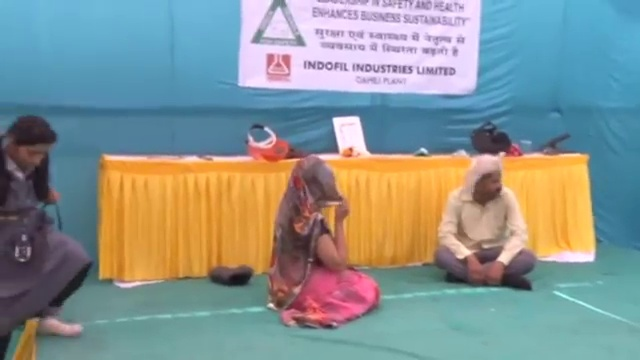helmet_off: (5, 117, 53, 176), (293, 157, 341, 205), (464, 158, 504, 202)
person: (1, 112, 89, 358), (265, 155, 382, 331), (431, 154, 537, 289)
